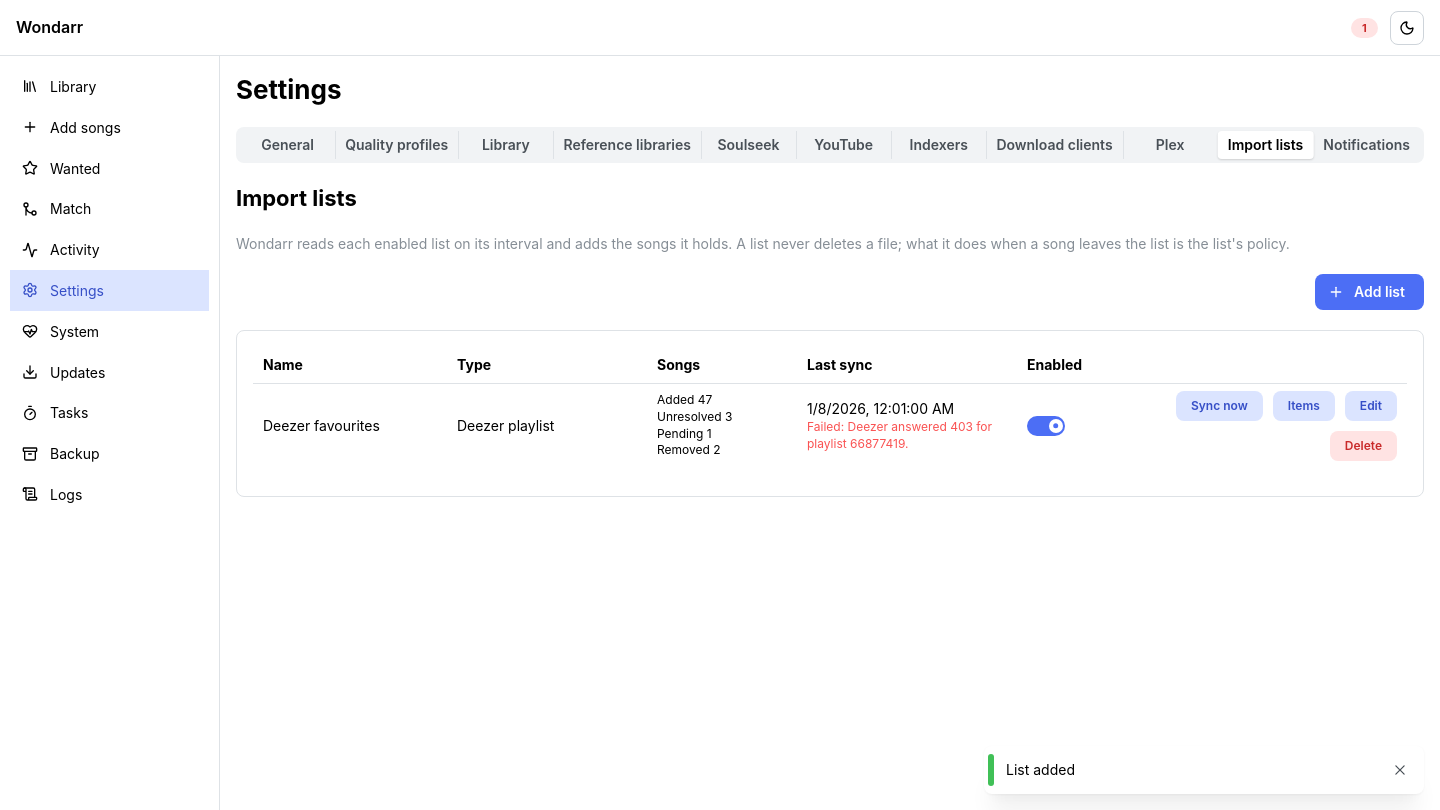
Test: ImportListsSettingsPage › syncs a list now and shows the message its command finished with
Click the button "Sync now" at (1219, 406), box [1176,391,1263,421]
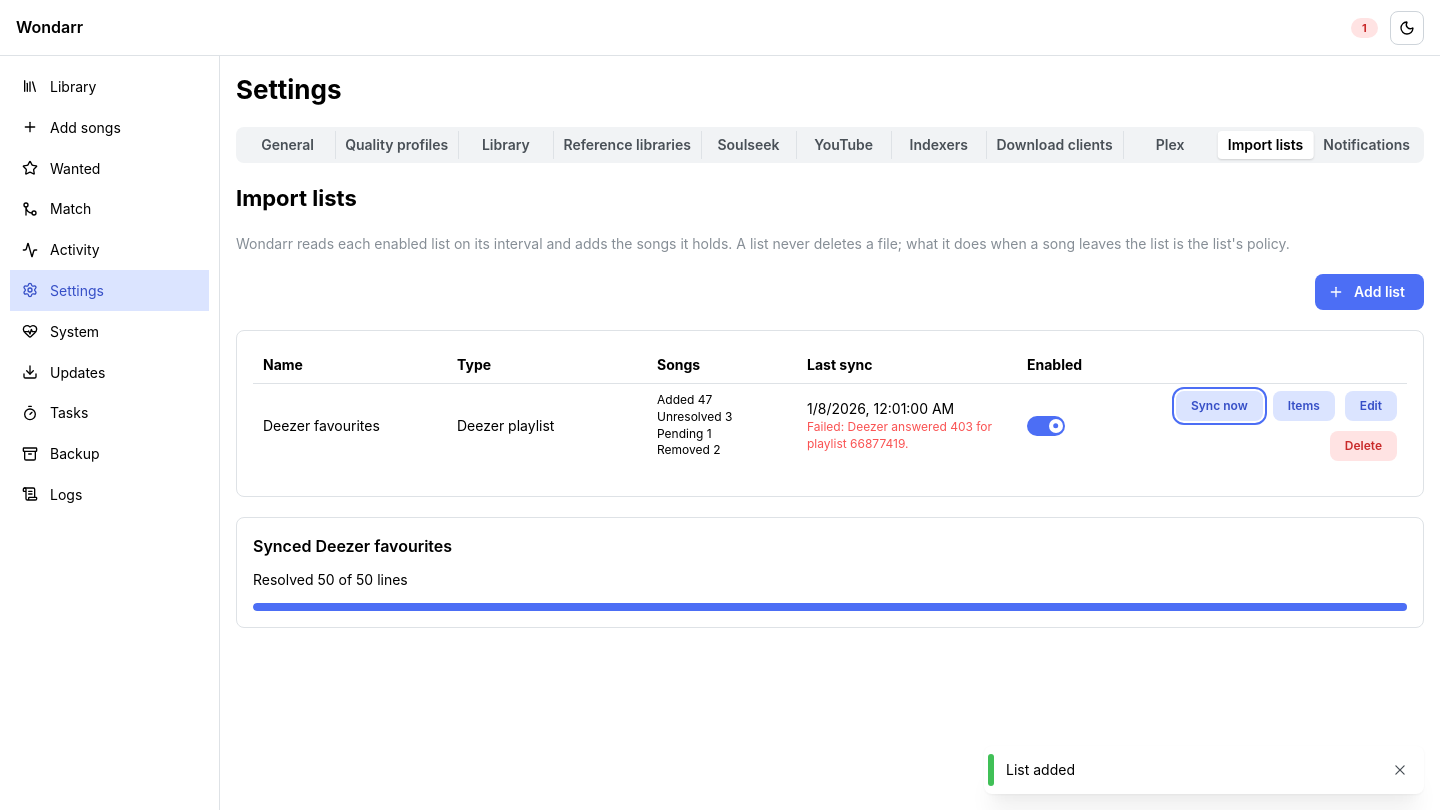
expect the text "Synced Deezer favourites" is shown: met, box [253,536,452,556]
expect the text "Resolved 50 of 50 lines" is shown: met, box [253,571,408,588]
